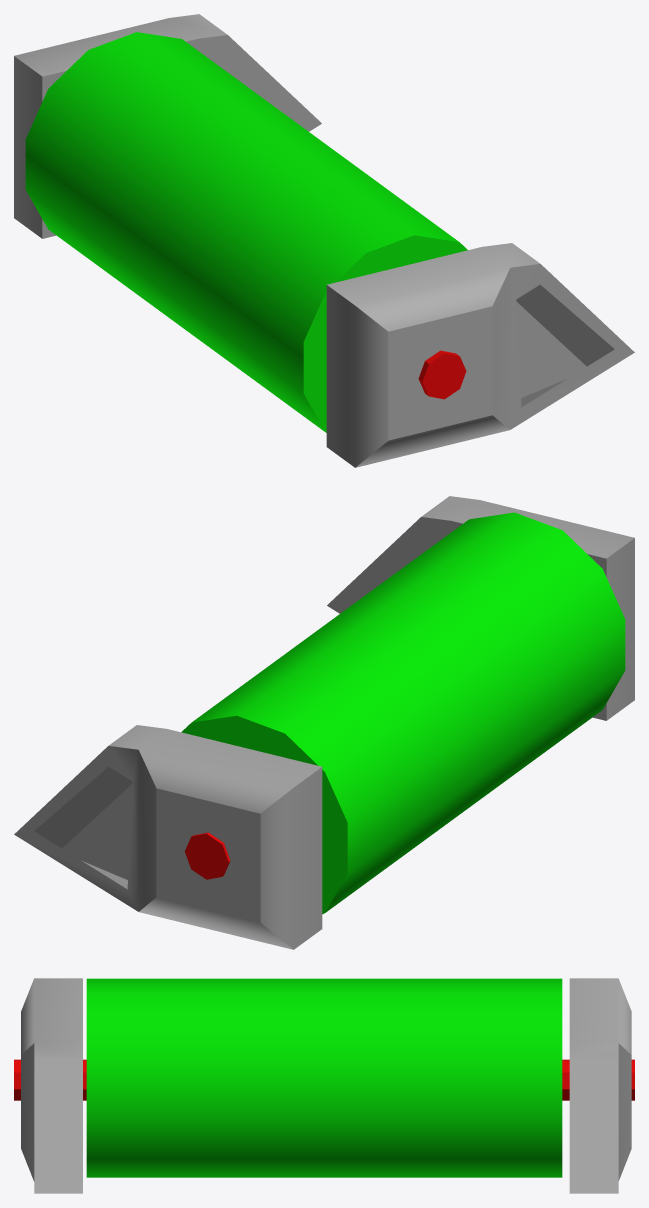
The model's file is Joe_Mod_WidingMortor.fbx.
3 views of the same model, one above another, from view 1: azimuth 30°, elevation 25°; view 2: azimuth 150°, elevation 25°; view 3: azimuth 270°, elevation 25° (orthographic). The views are drawn at different scales.
Visible parts, largest first — view 1: pCube124; view 2: pCube124; view 3: pCube124.
Boxes of the visible parts, x1,y1,x2,y2 form: pCube124: (14, 14, 634, 467); pCube124: (14, 496, 634, 949); pCube124: (14, 978, 634, 1193).
Size of the model in its own units: 6.1 by 4.09 by 12.73.
